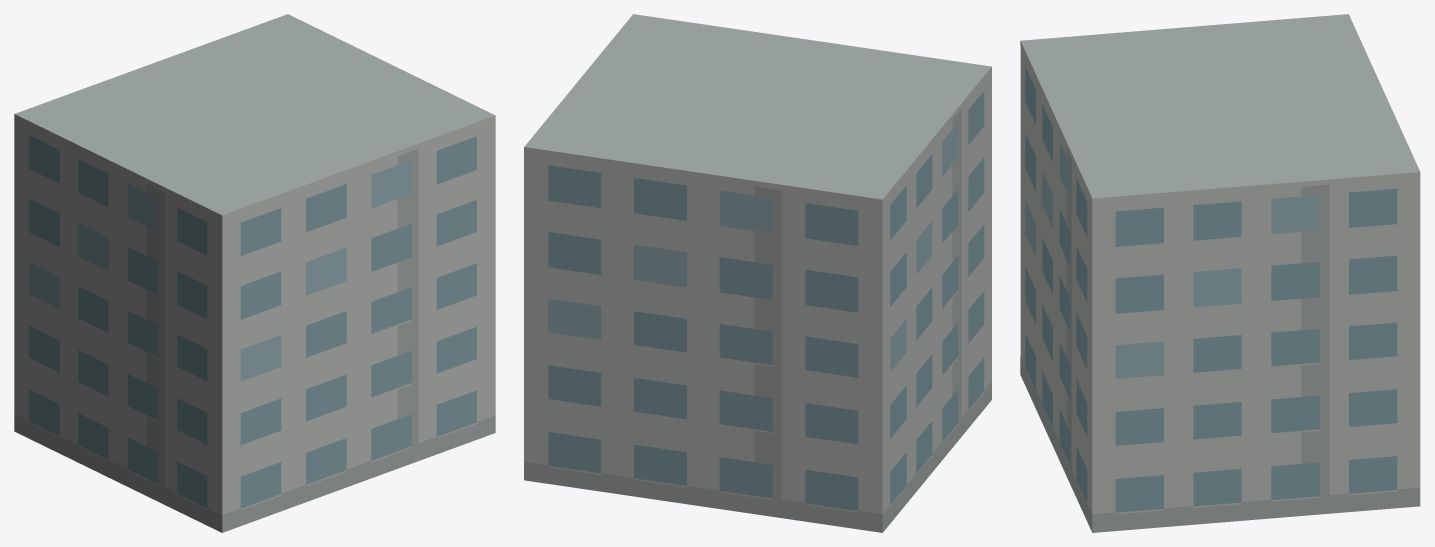
File: residential-b94de683-334a-4c3c-8a33-0023967fdb28.glb
3 renders of one model, left to right at view 1: azimuth 30°, elevation 25°; view 2: azimuth 150°, elevation 25°; view 3: azimuth 270°, elevation 25°, orthographic. The views are drawn at different scales.
Parts seen in each view (by area): view 1: residential-b94de683-334a-4c3c-8a33-0023967fdb28.tmp; view 2: residential-b94de683-334a-4c3c-8a33-0023967fdb28.tmp; view 3: residential-b94de683-334a-4c3c-8a33-0023967fdb28.tmp.
Boxes of the visible parts, x1=… form: residential-b94de683-334a-4c3c-8a33-0023967fdb28.tmp: x1=14, y1=14, x2=495, y2=532; residential-b94de683-334a-4c3c-8a33-0023967fdb28.tmp: x1=524, y1=14, x2=991, y2=532; residential-b94de683-334a-4c3c-8a33-0023967fdb28.tmp: x1=1020, y1=14, x2=1420, y2=532.
Size of the model in its own units: 18.07 by 15.25 by 16.54.
